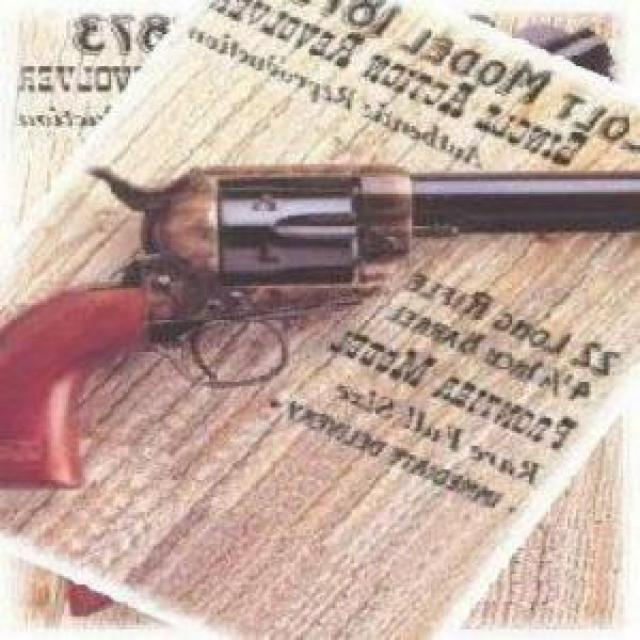pistol: (4, 160, 638, 490)
